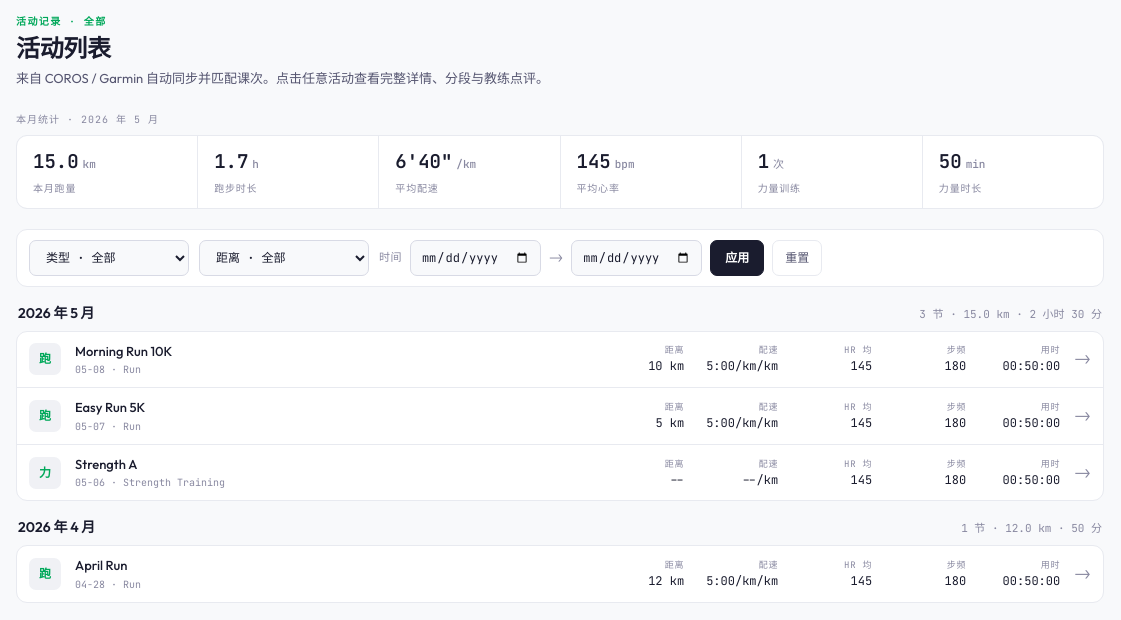
it: ActivitiesPage › requests sport and distance filters from the activity endpoint
The width and height of the screenshot is (1121, 620).
Check: the text "Morning Run 10K" is shown, box [75,343,172,359]
Select "类型 · 力量训练" in the dropdown named "活动类型" at (109, 258), box [29,240,189,276]
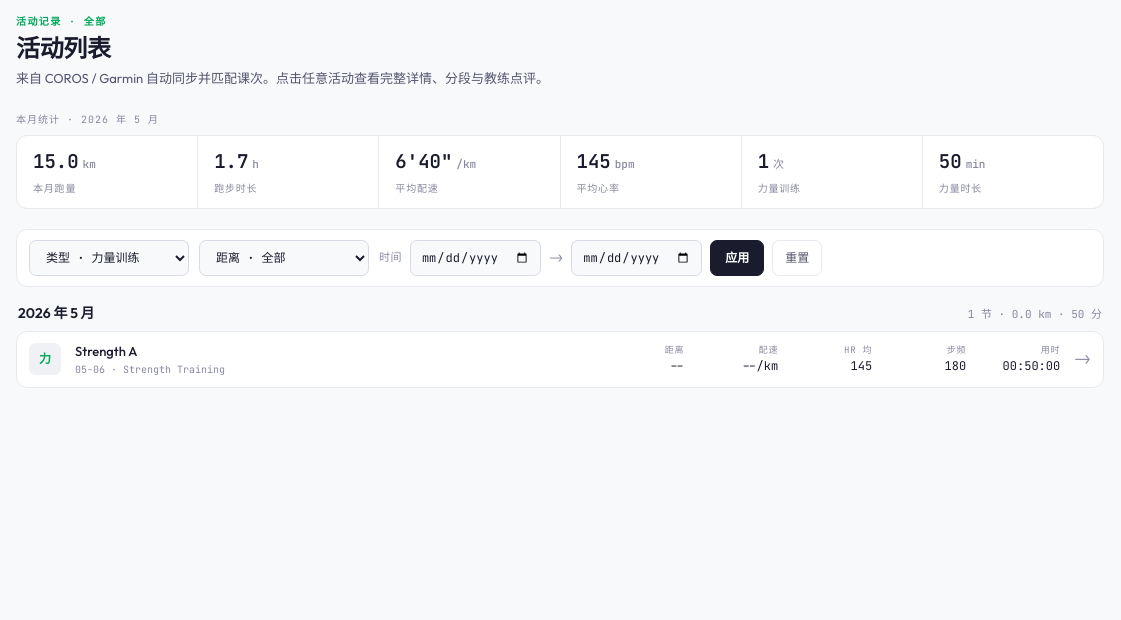
Check: the text "Strength A" is shown, box [75,343,137,359]
Select "类型 · 跑步" in the dropdown named "活动类型" at (109, 258), box [29,240,189,276]
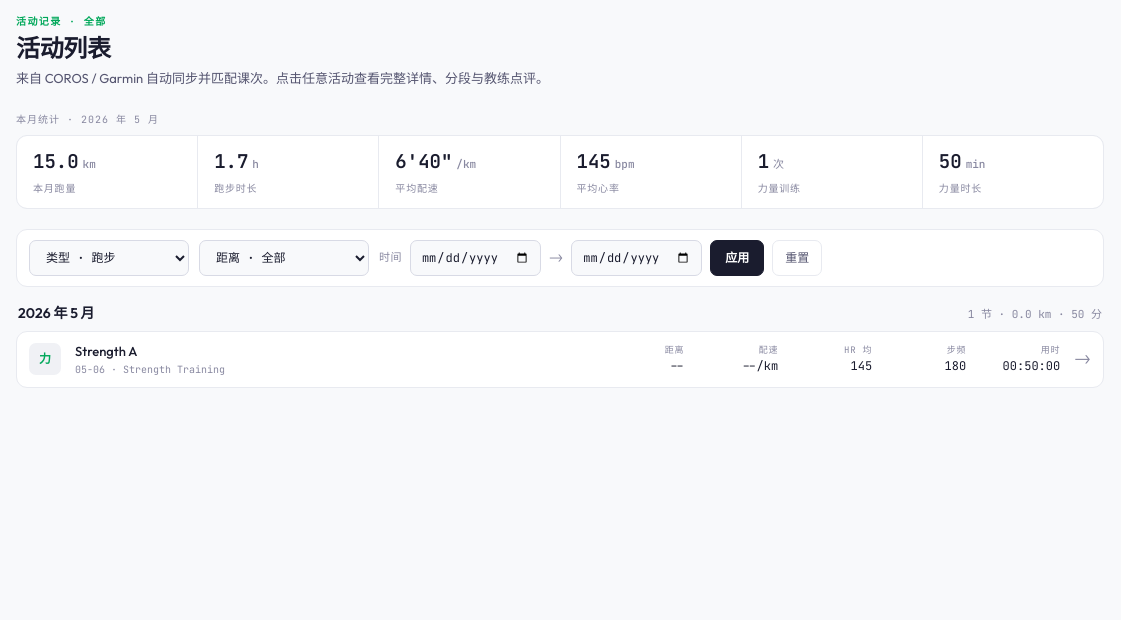
Select "距离 · >= 10 km" in the dropdown named "距离下限" at (284, 258), box [199,240,369,276]
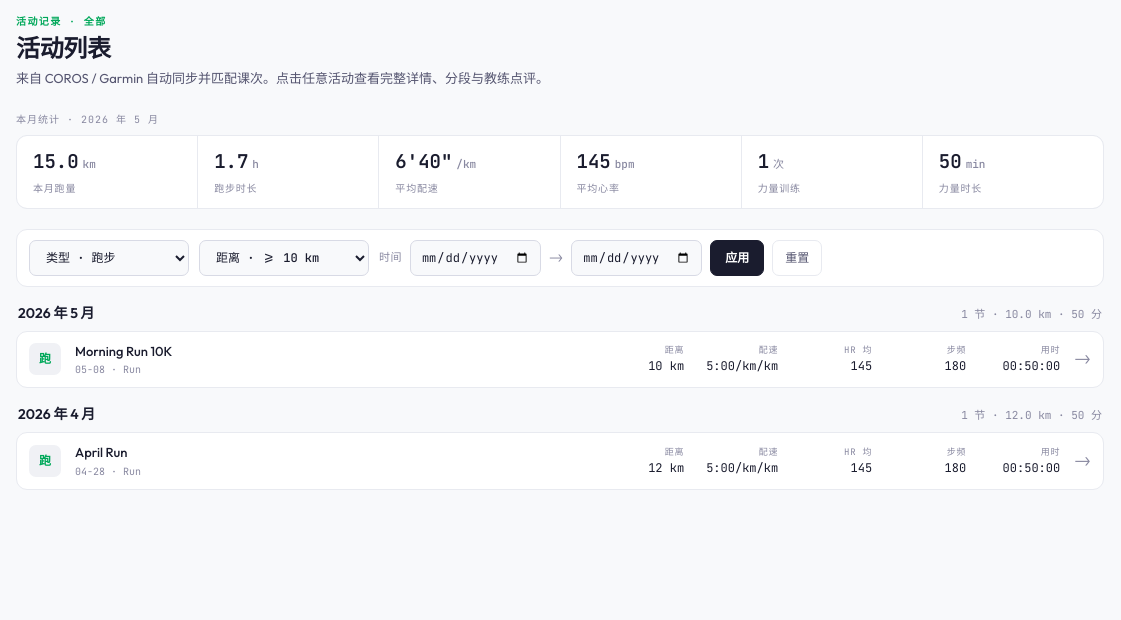
Check: the text "Morning Run 10K" is shown, box [75,343,172,359]
